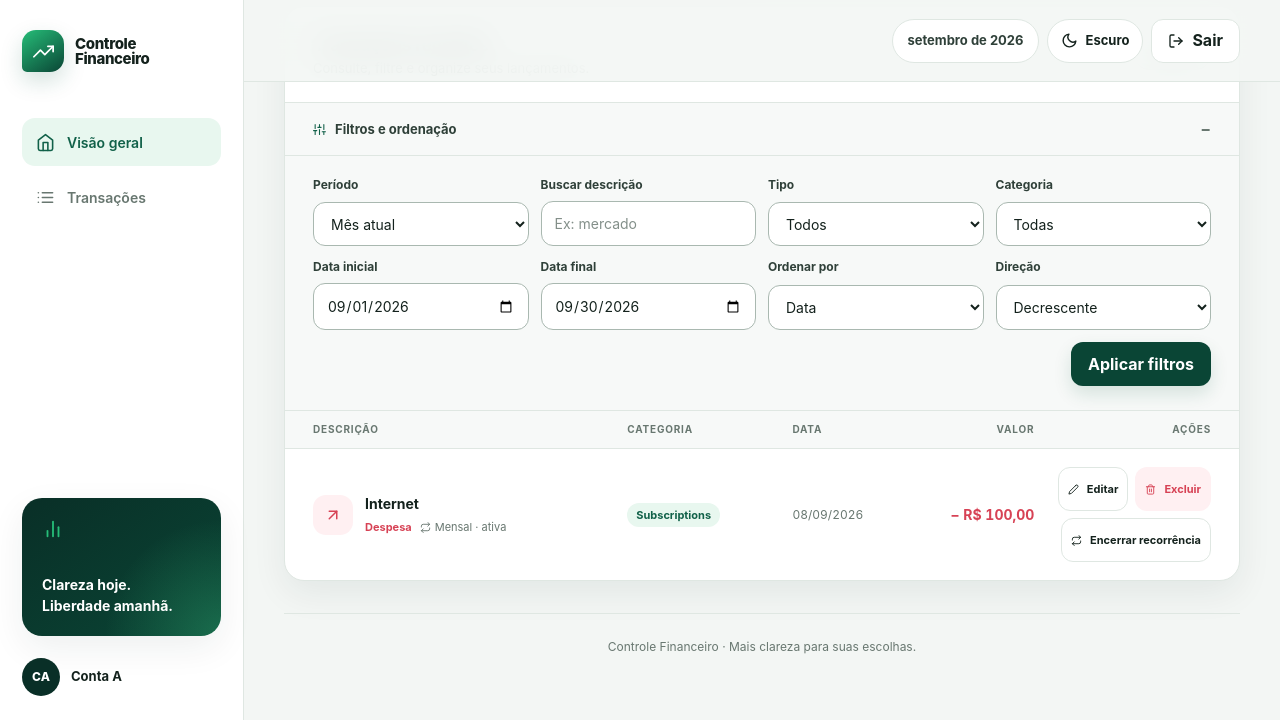
Test case: permite encerrar uma recorrência ativa
This screenshot has width=1280, height=720.
(page scrolled)
expect the button "Sair" is shown: met, box top-left (1151, 18), bottom-right (1240, 62)
Step 1. Click the button with aria-label "Encerrar recorrência de Internet" → (1136, 540), box top-left (1061, 518), bottom-right (1211, 562)
(page scrolled)
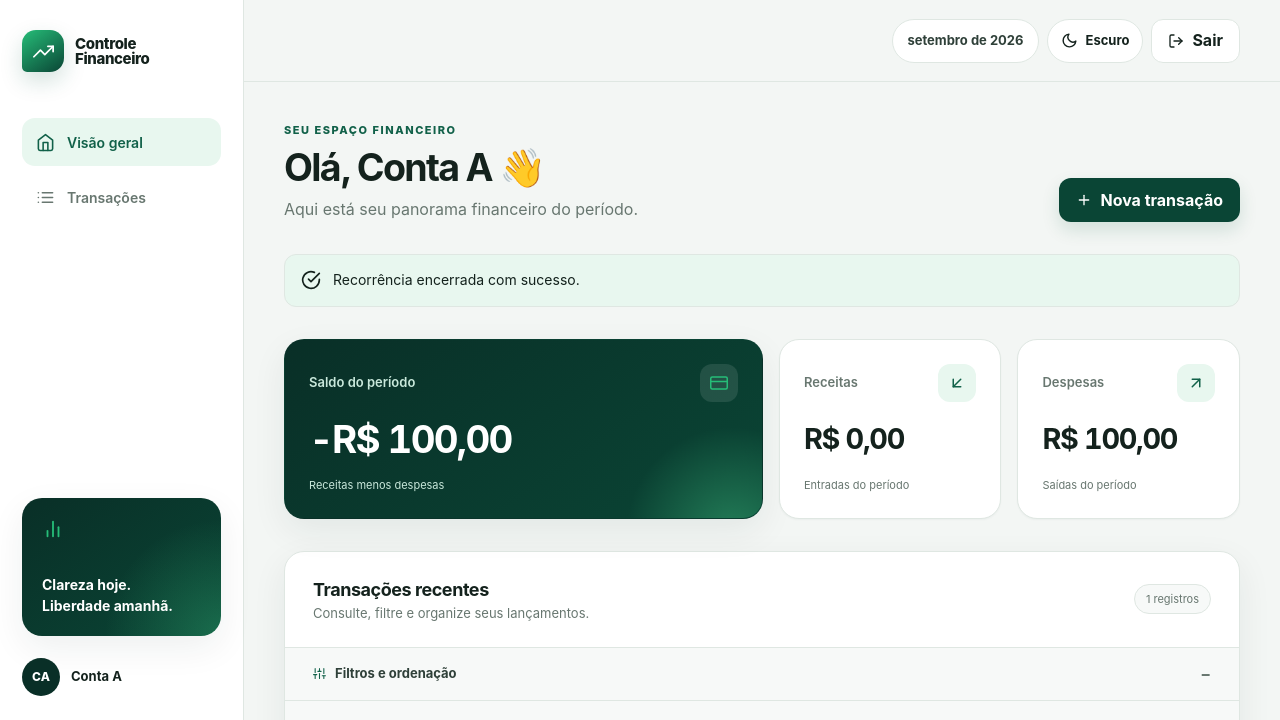
expect the text "Recorrência encerrada com sucesso." is shown: met, box top-left (333, 269), bottom-right (580, 292)
